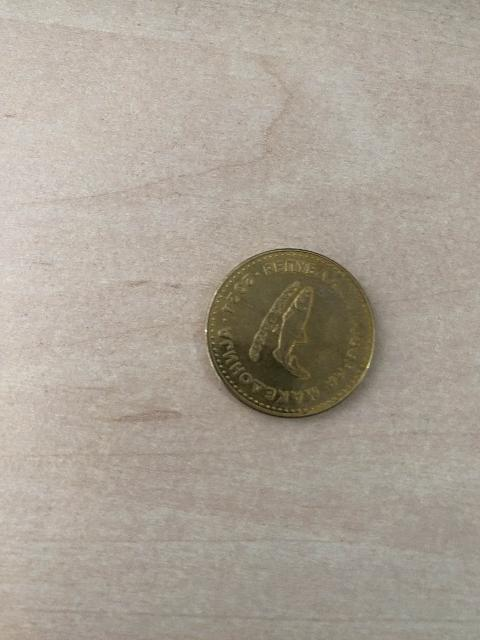coin: (206, 249, 374, 417)
